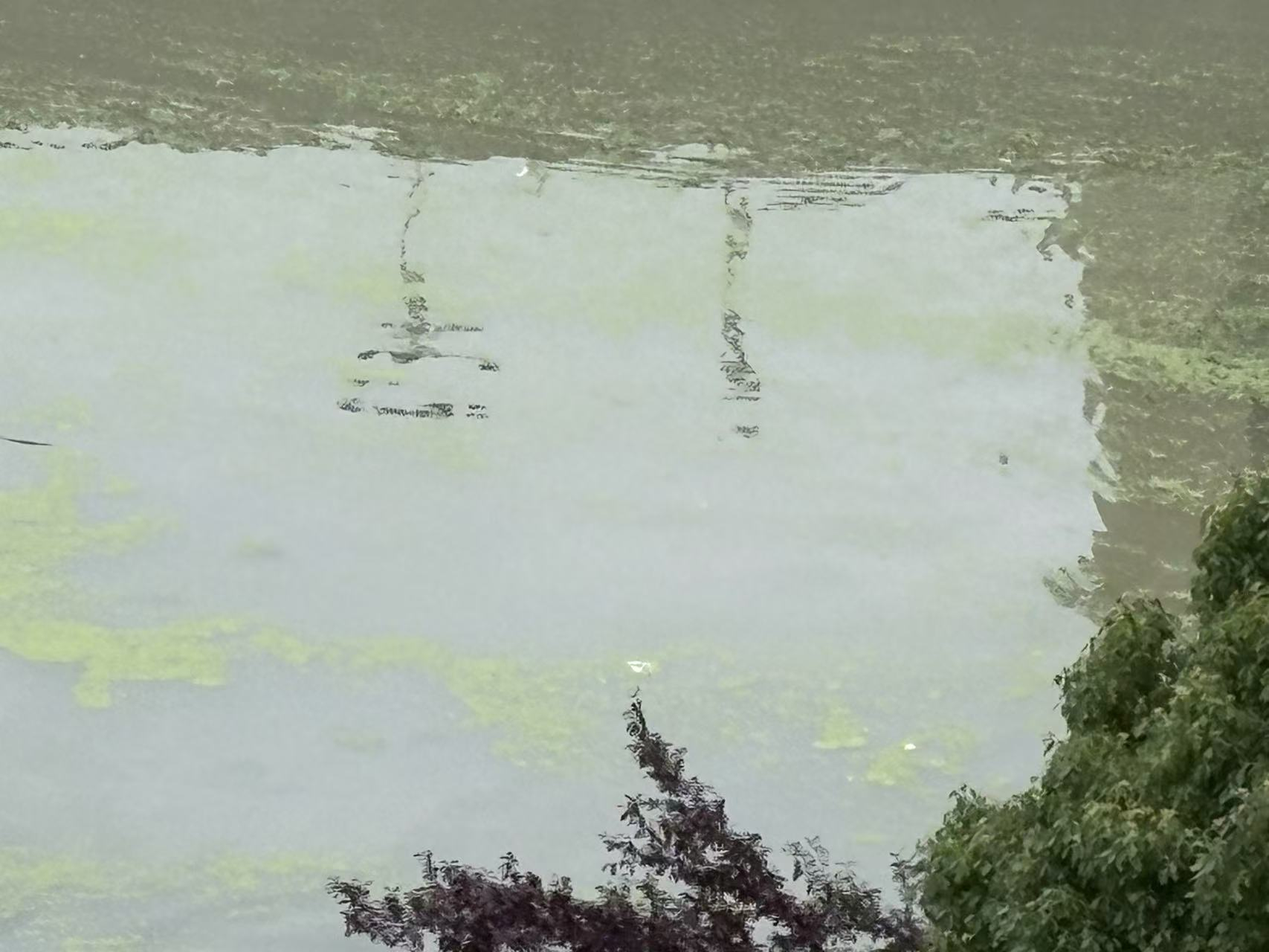Other: (10, 601, 230, 675), (263, 625, 472, 678), (10, 202, 170, 265), (7, 488, 81, 595), (482, 665, 573, 751), (4, 854, 165, 898), (212, 853, 330, 900)
Plastic wastes: (625, 657, 654, 675)
